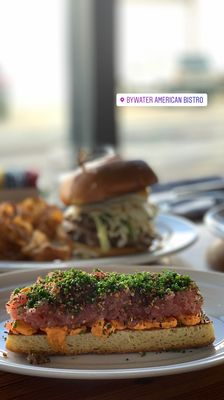soup: (4, 266, 217, 358), (57, 155, 161, 257)
